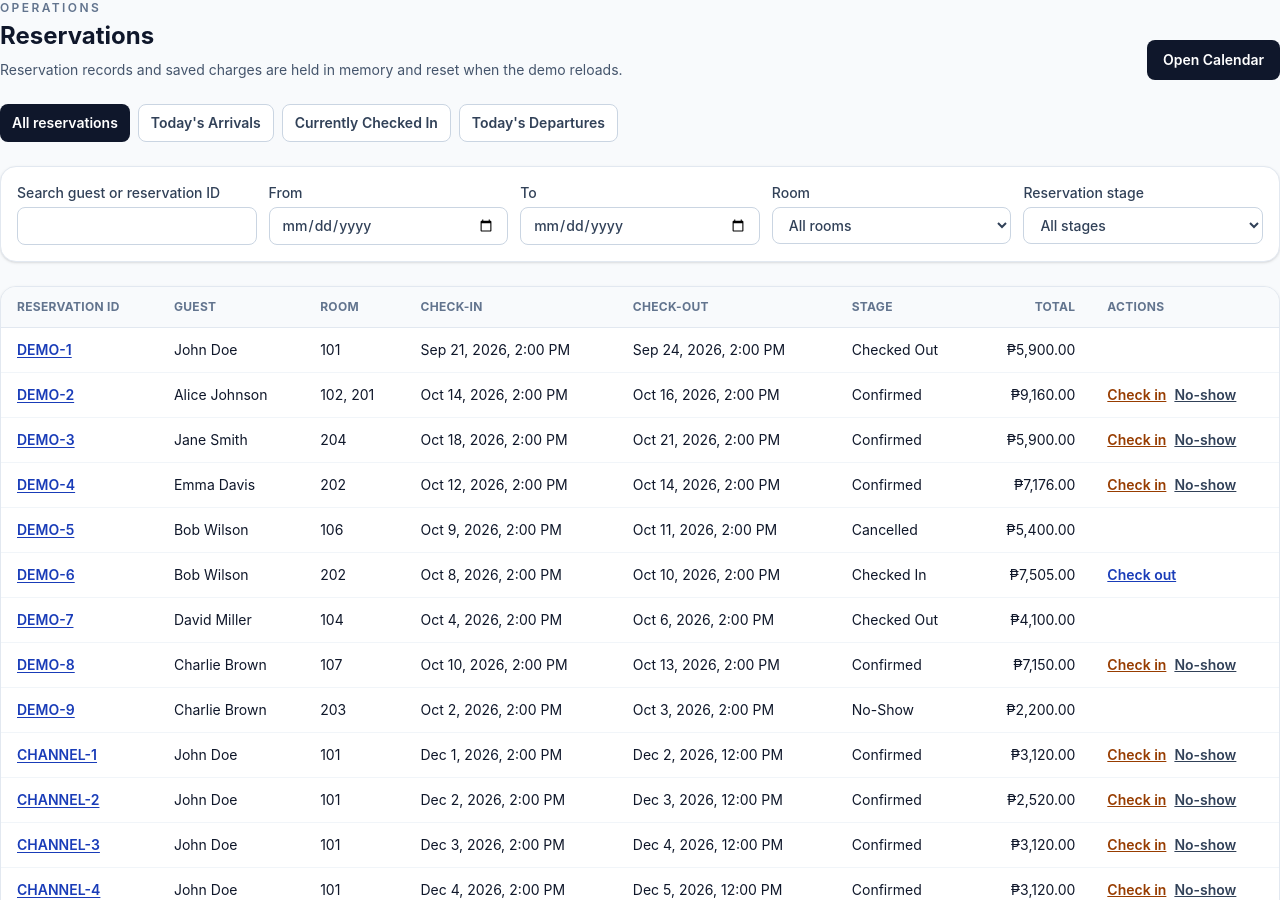
reservation operations › filters the reservation table and opens full saved details
The width and height of the screenshot is (1280, 900).
Type "DEMO-8" into the field labelled "Search guest or reservation ID" at x=137, y=226, box [17,207,257,245]
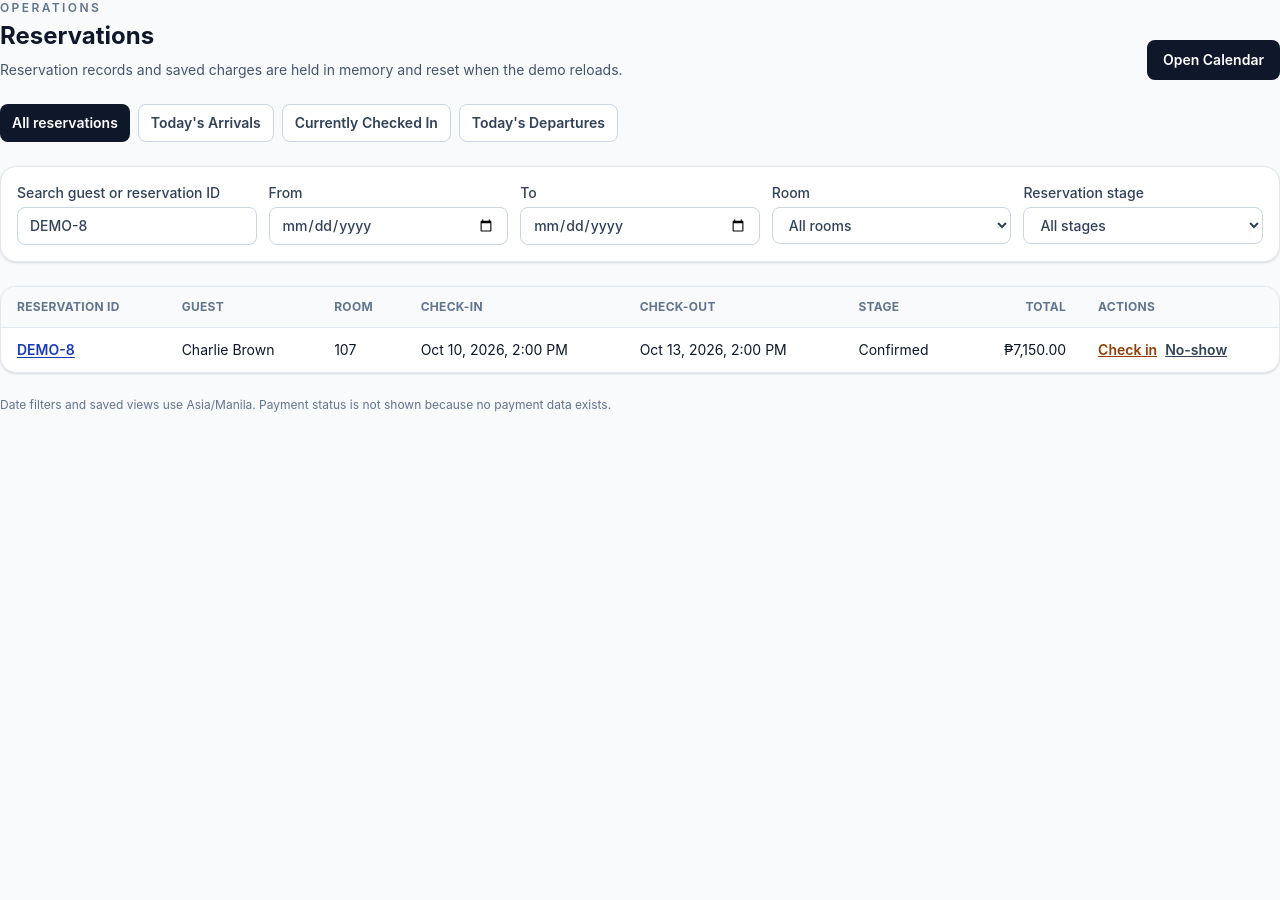
Check: the text "Charlie Brown" is shown, box [166,328,318,372]
Click the link "DEMO-8" at x=46, y=350, box [17,341,75,358]
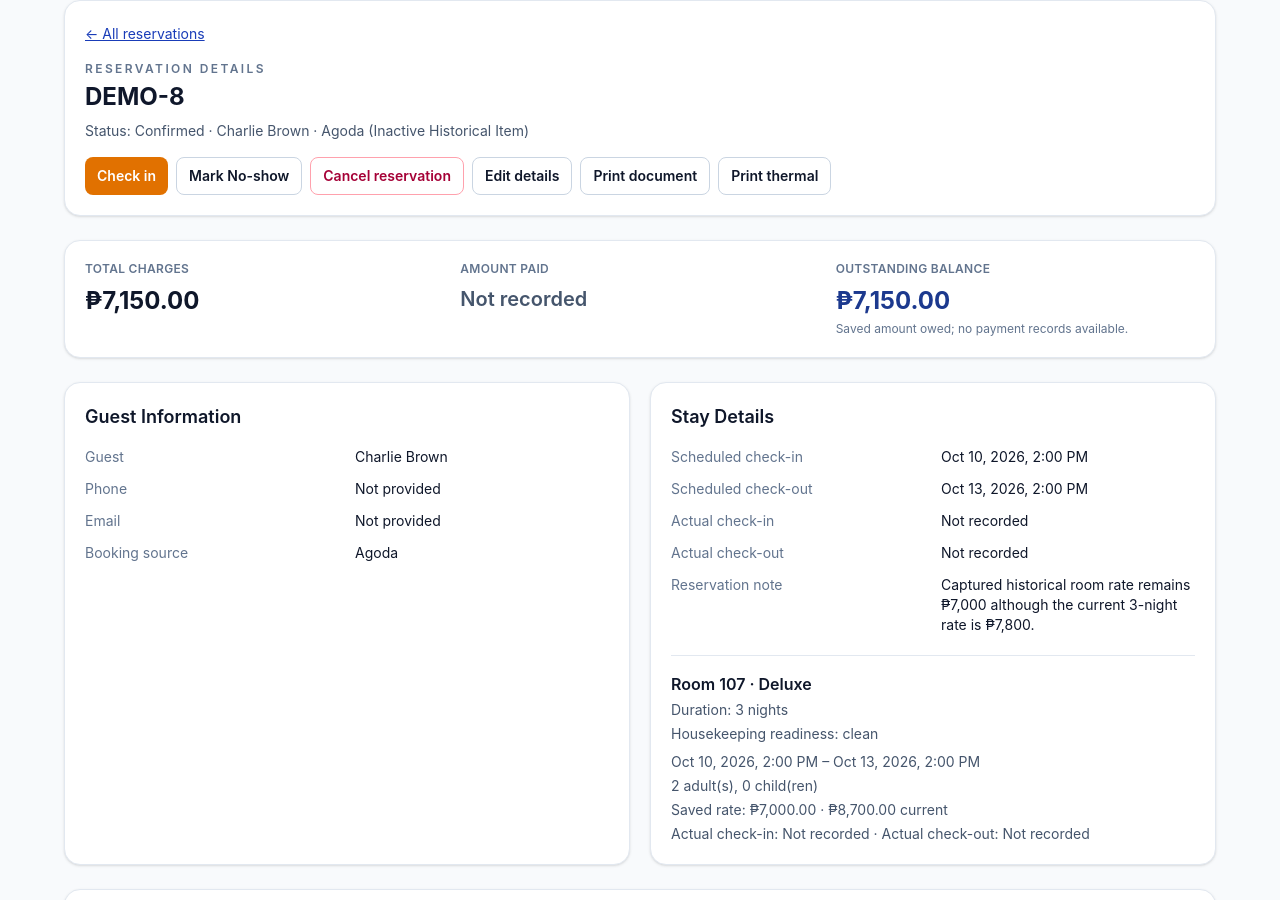
Check: the heading "DEMO-8" is shown, box [85,82,185,111]
Check: the text "Agoda (inactive historical item)" is shown, box [85,121,529,141]
Check: the text "₱7,800" is shown, box [941,576,1194,633]
